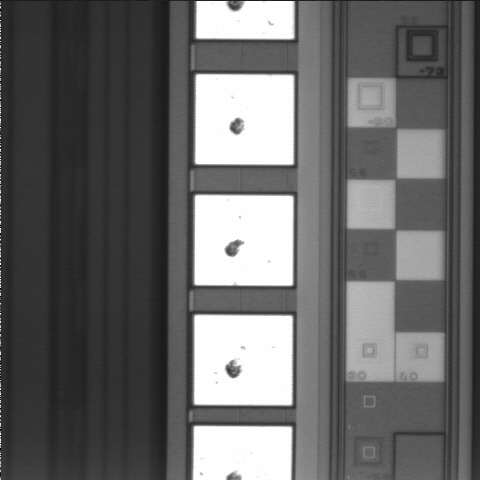pad: (195, 74, 294, 165), (195, 195, 293, 286), (194, 315, 293, 405)
